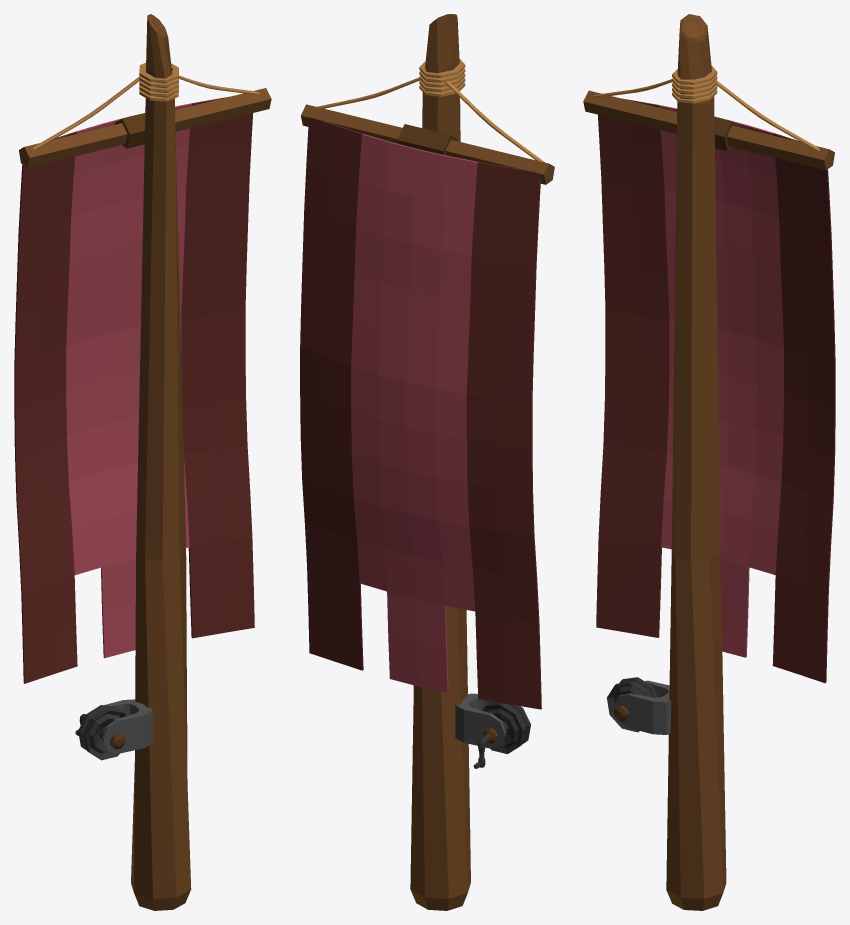
File: G_Flag_Red.fbx
3 renders of one model, left to right at view 1: azimuth 30°, elevation 25°; view 2: azimuth 150°, elevation 25°; view 3: azimuth 330°, elevation 25°, orthographic.
Visible parts, largest first — view 1: G_Flag_Red, G_Flag_Roll.002; view 2: G_Flag_Red, G_Flag_Roll.002; view 3: G_Flag_Red, G_Flag_Roll.002.
Boxes of the visible parts, x1=… form: G_Flag_Red: x1=14, y1=14, x2=271, y2=910; G_Flag_Roll.002: x1=75, y1=705, x2=125, y2=760; G_Flag_Red: x1=300, y1=14, x2=554, y2=910; G_Flag_Roll.002: x1=473, y1=701, x2=530, y2=768; G_Flag_Red: x1=583, y1=14, x2=835, y2=910; G_Flag_Roll.002: x1=607, y1=677, x2=658, y2=732.
Size of the model in its own units: 147 by 514 by 58.37.
